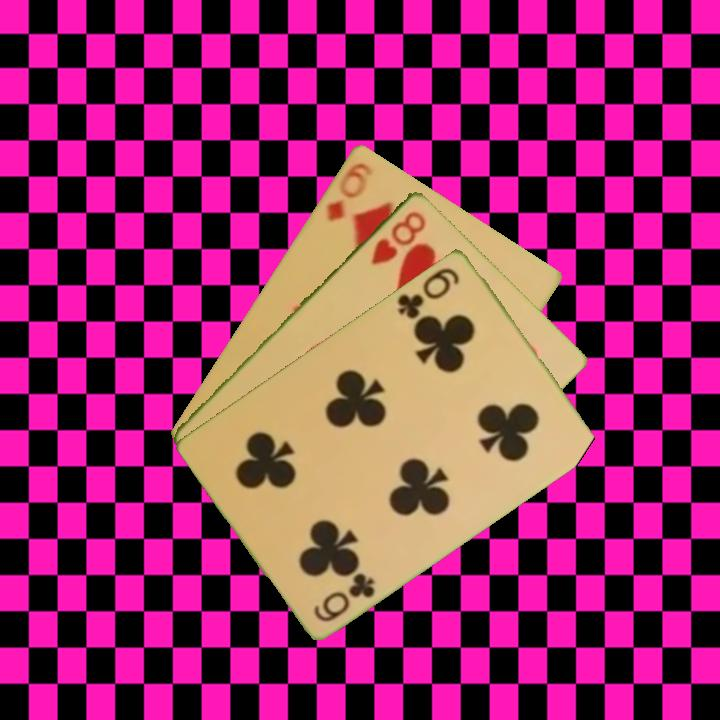6c: (393, 263, 463, 321), (310, 568, 379, 625)
6d: (322, 158, 376, 224)
8h: (368, 207, 429, 268)
